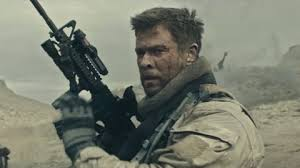Gun: (42, 10, 115, 129)
